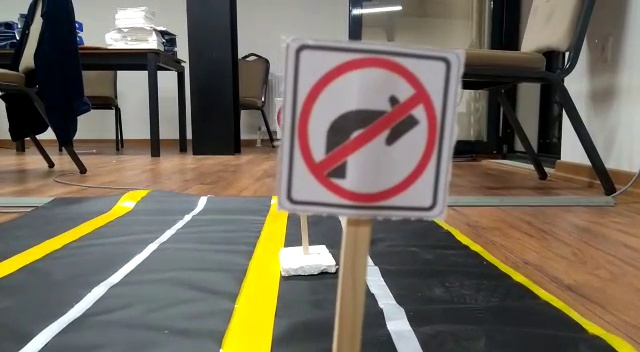saga_donulmez: (292, 44, 444, 217)
